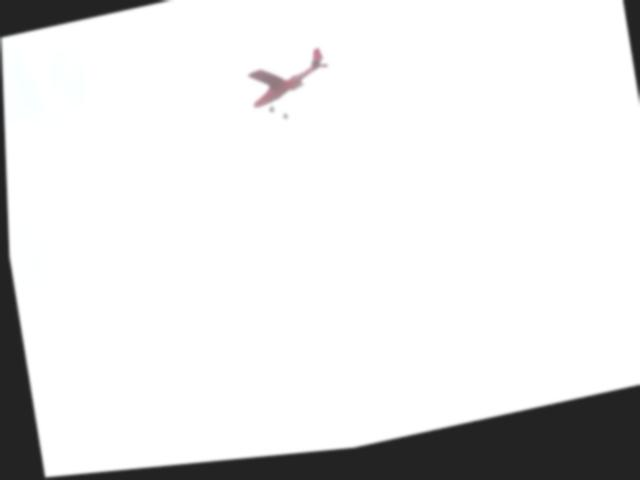plane: (245, 51, 332, 132)
